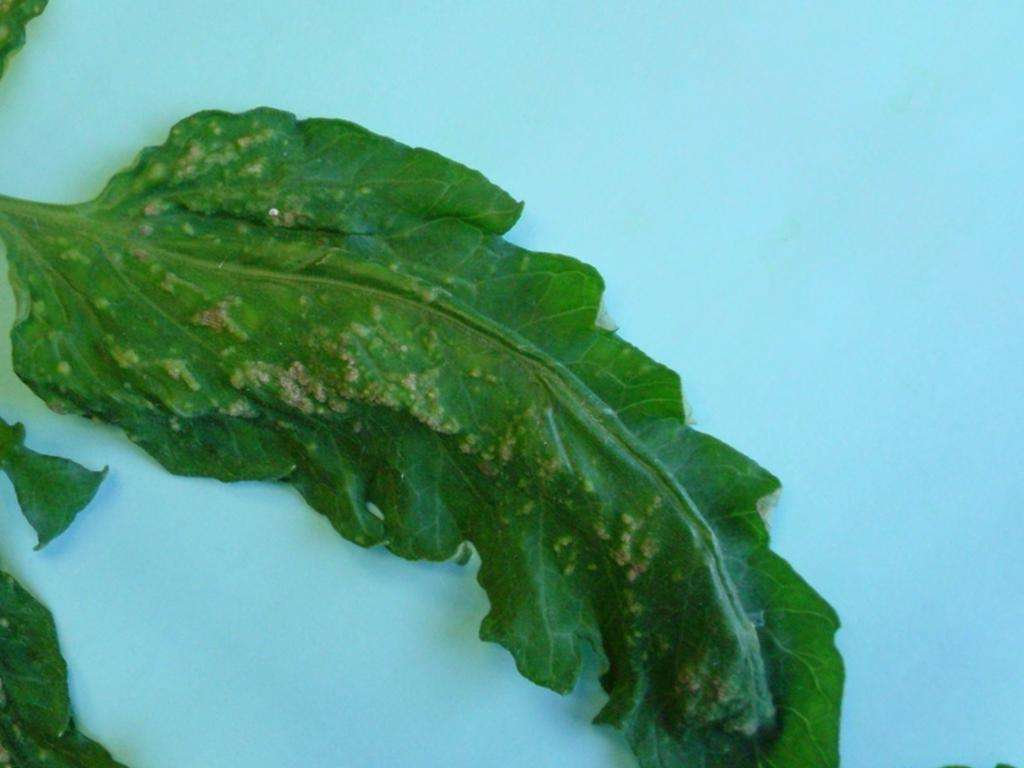Tomato mold leaf: (0, 0, 1021, 768)
